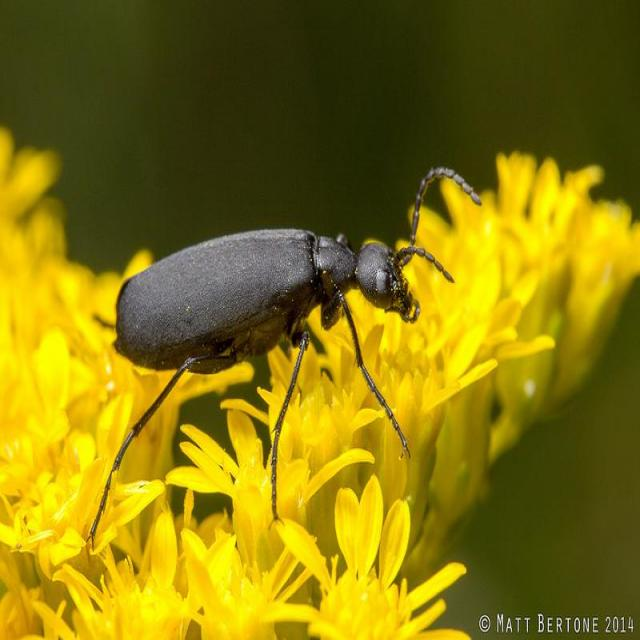BlisterBeetle-Adult-: (57, 154, 488, 528)
